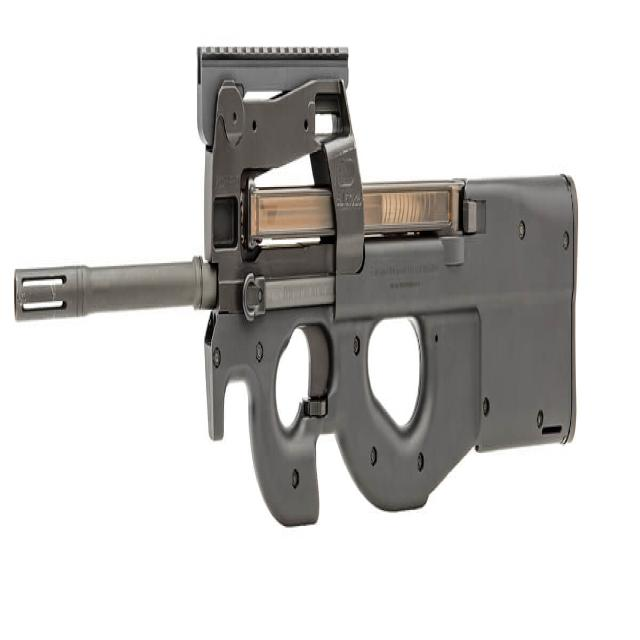SMG: (13, 47, 581, 530)
